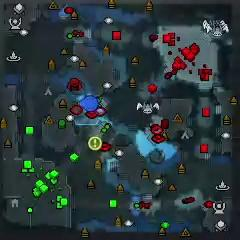Other: (89, 136, 101, 151)
p1: (77, 95, 98, 112)
